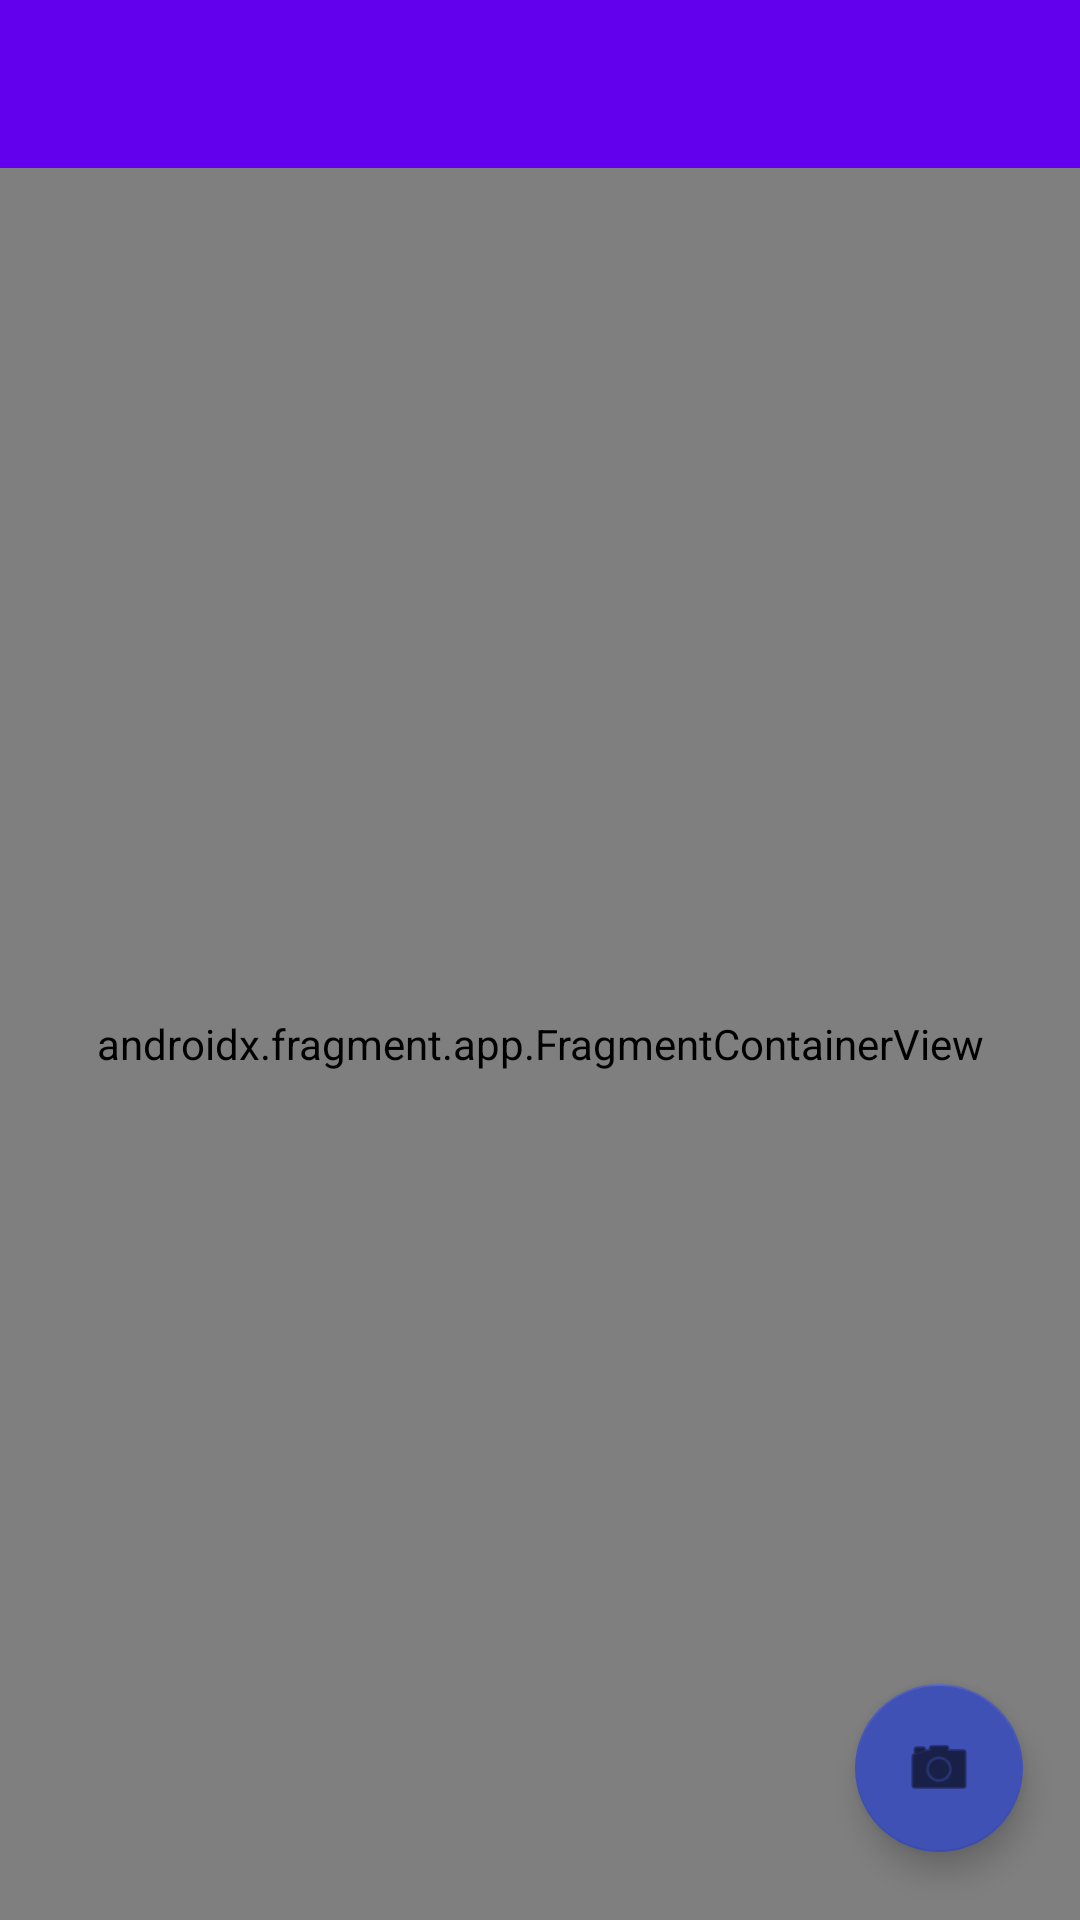

Icon bounding boxes for this 1080×1920 phone screenshot, format [x1,y1,x2,y2]:
Take a Picture Button: [855,1684,1023,1852]
